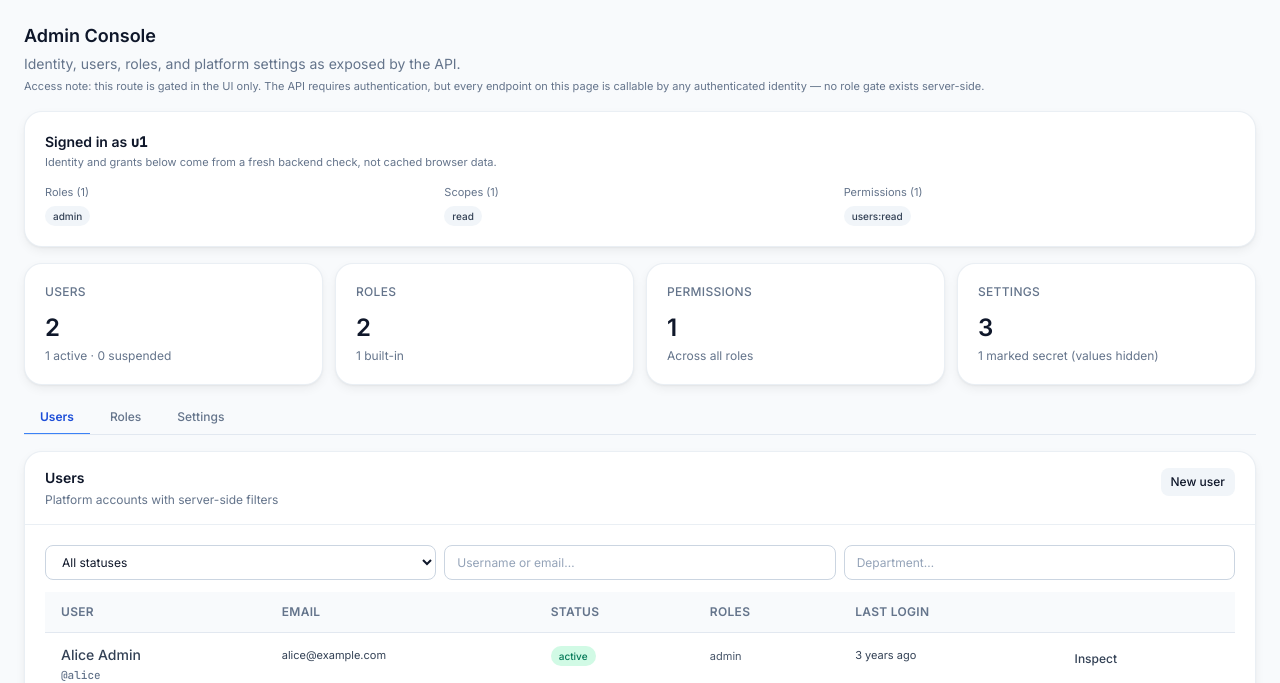
Test: users › detail shows backend fields and never the password hash
Check: the text "Alice Admin" is shown, box [61,646,141,663]
Click the button with aria-label "Inspect user alice". click: point(1096, 659)
box: [1065,645,1127,673]
(page scrolled)
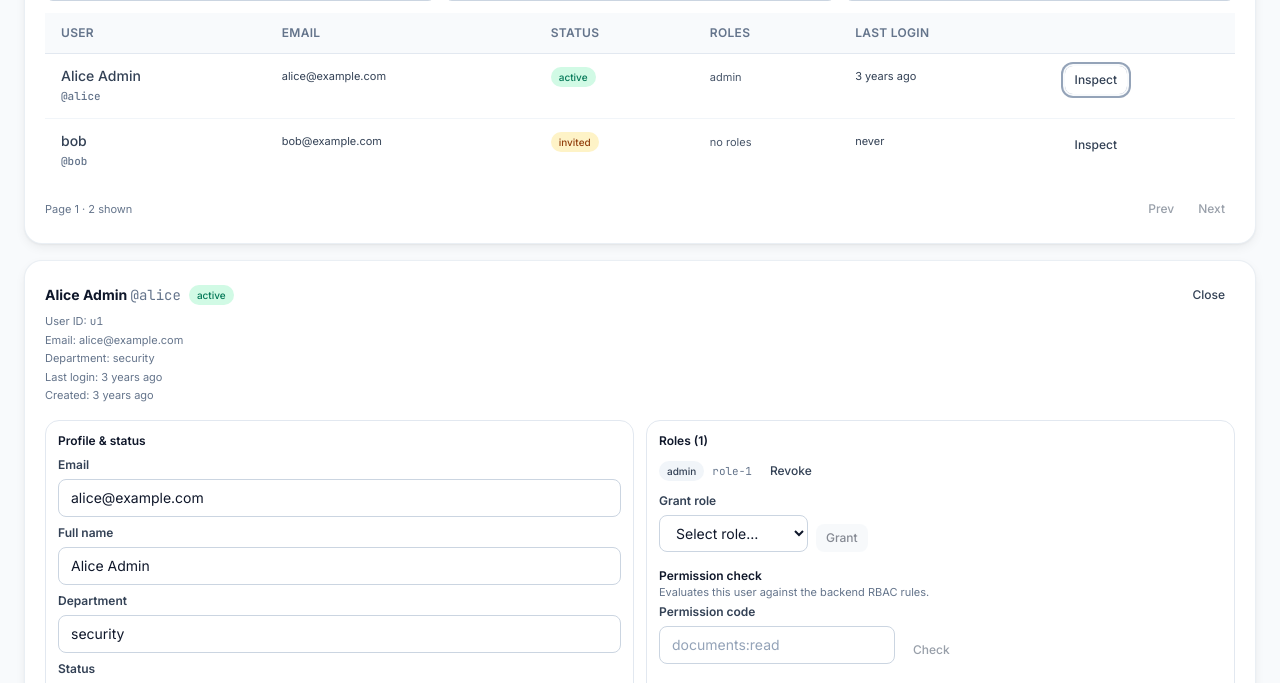
Check: the text "Department: security" is shown, box [45,351,155,365]
